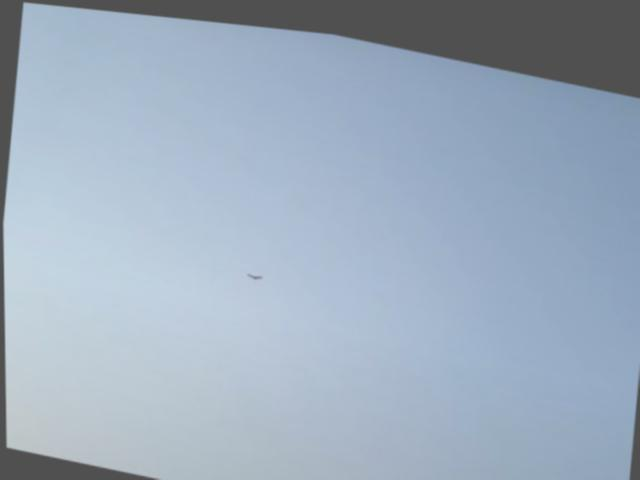iha: (246, 265, 262, 277)
